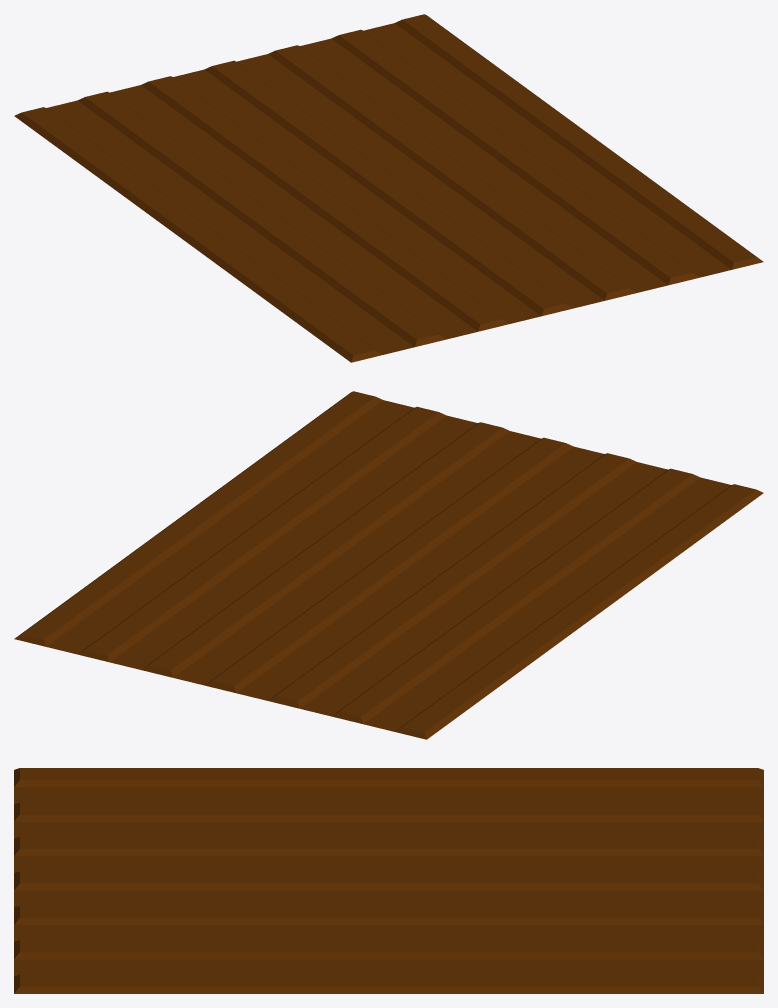
File: Farm_Plot_01.fbx
3 renders of one model, top to bottom at view 1: azimuth 30°, elevation 25°; view 2: azimuth 150°, elevation 25°; view 3: azimuth 270°, elevation 25°, orthographic. The views are drawn at different scales.
Parts seen in each view (by area): view 1: Model; view 2: Model; view 3: Model.
Part boxes in pixels (x1,y1,x2,y2): Model: (14,14,763,362); Model: (14,391,763,739); Model: (14,768,763,993).
Bounding box in the file's own units: 2699 × 26.04 × 3818.
